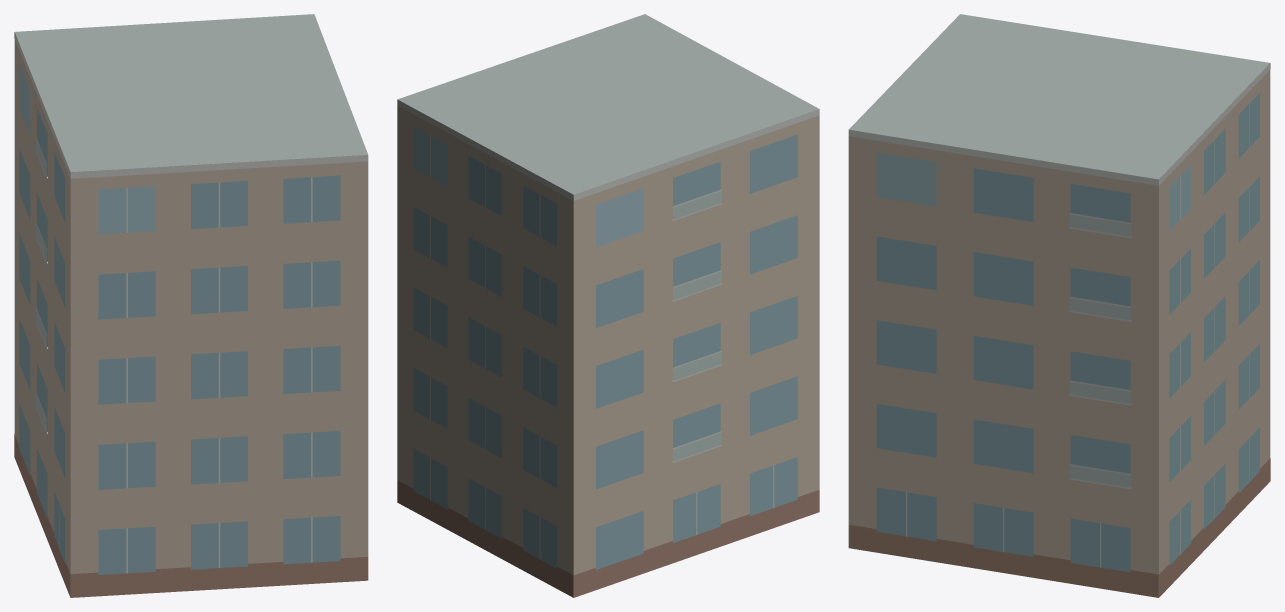
File: survey-upis-32881415.glb
The picture shows the model from 3 angles, left to right: view 1: azimuth 30°, elevation 25°; view 2: azimuth 150°, elevation 25°; view 3: azimuth 270°, elevation 25°; orthographic projection. The views are drawn at different scales.
Visible parts, largest first — view 1: survey-upis-32881415.tmp; view 2: survey-upis-32881415.tmp; view 3: survey-upis-32881415.tmp.
Part boxes in pixels (bbox=[...]): survey-upis-32881415.tmp: bbox=[14, 14, 368, 597]; survey-upis-32881415.tmp: bbox=[397, 14, 819, 597]; survey-upis-32881415.tmp: bbox=[848, 14, 1270, 597].
Size of the model in its own units: 13.41 by 15.8 by 14.44.
